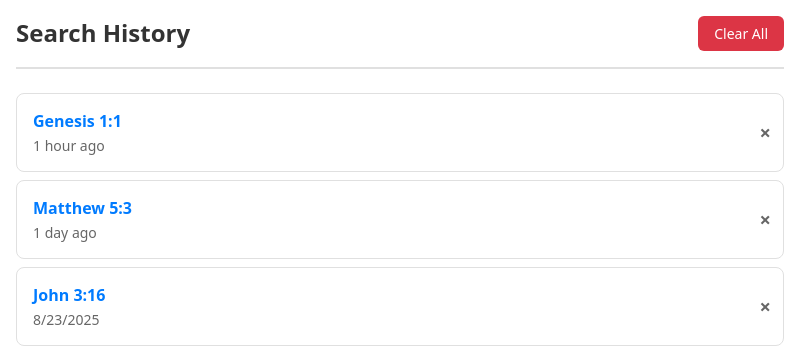
Test: SearchHistory Component › History Management › updates display after removing individual item
Expected: the text "Genesis 1:1" is shown, [33,110,122,132]
Click the button named "Remove Genesis 1:1 from search history" at {"x": 765, "y": 132}, box [748,106,783,158]
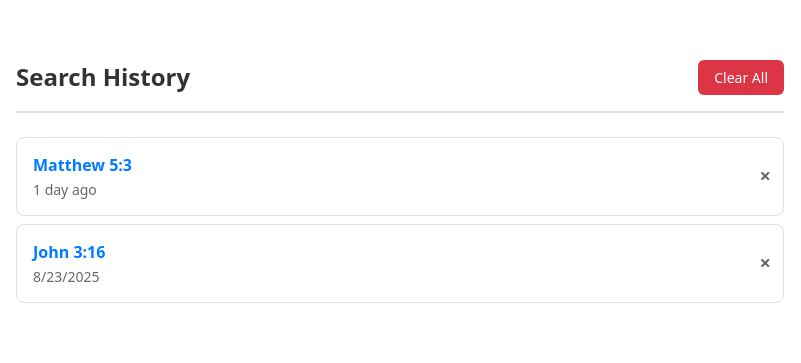
Expected: the text "Matthew 5:3" is shown, [33,154,132,176]
Result: the button "Genesis 1:1" is gone
